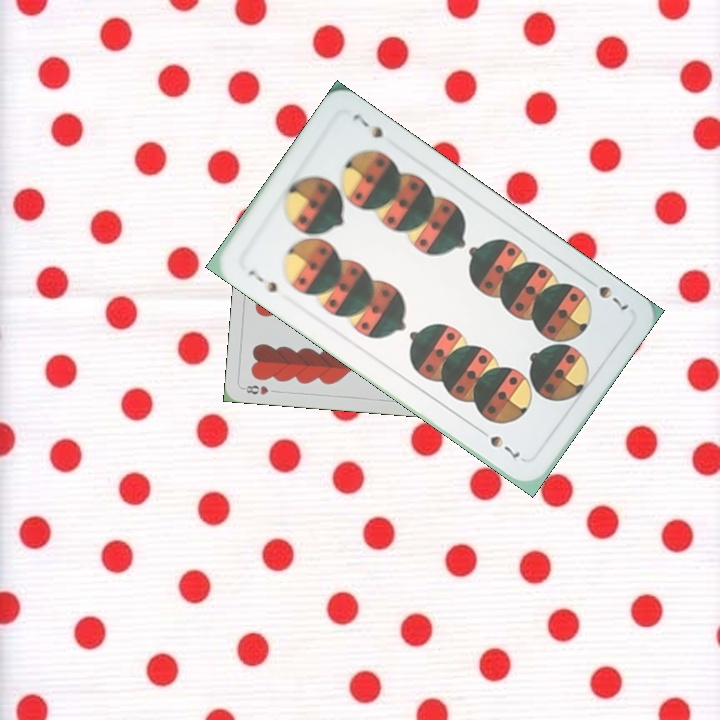H8: (239, 381, 271, 397)
S7: (594, 281, 631, 313), (244, 265, 281, 296)
